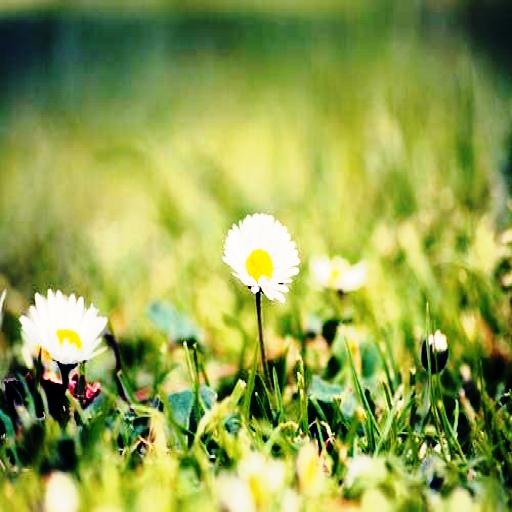daisy: (225, 212, 298, 302), (22, 292, 102, 360)
